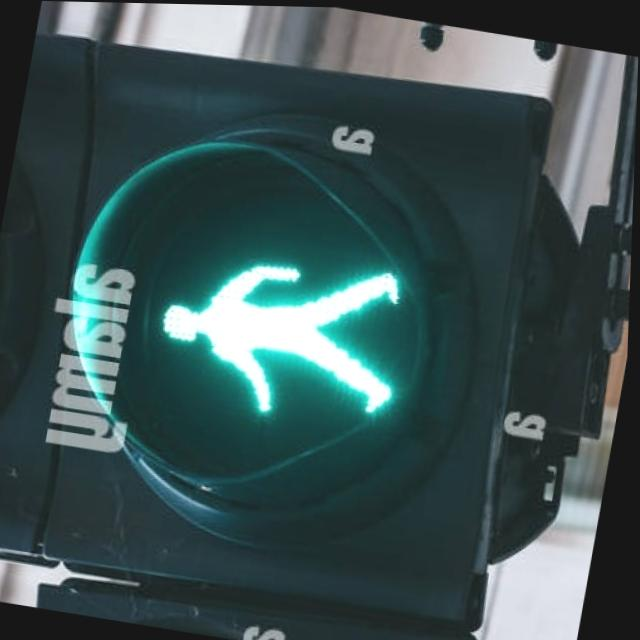green_light: (133, 232, 425, 427)
